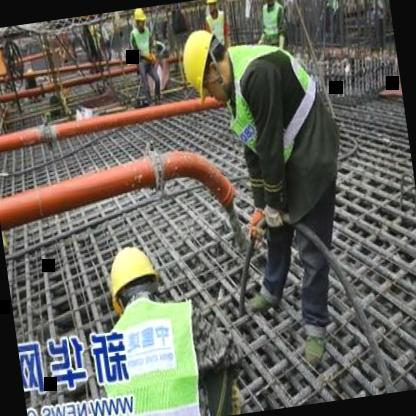helmet: (98, 235, 167, 323), (172, 20, 236, 110), (130, 6, 151, 36), (204, 0, 221, 15), (258, 0, 279, 8)
